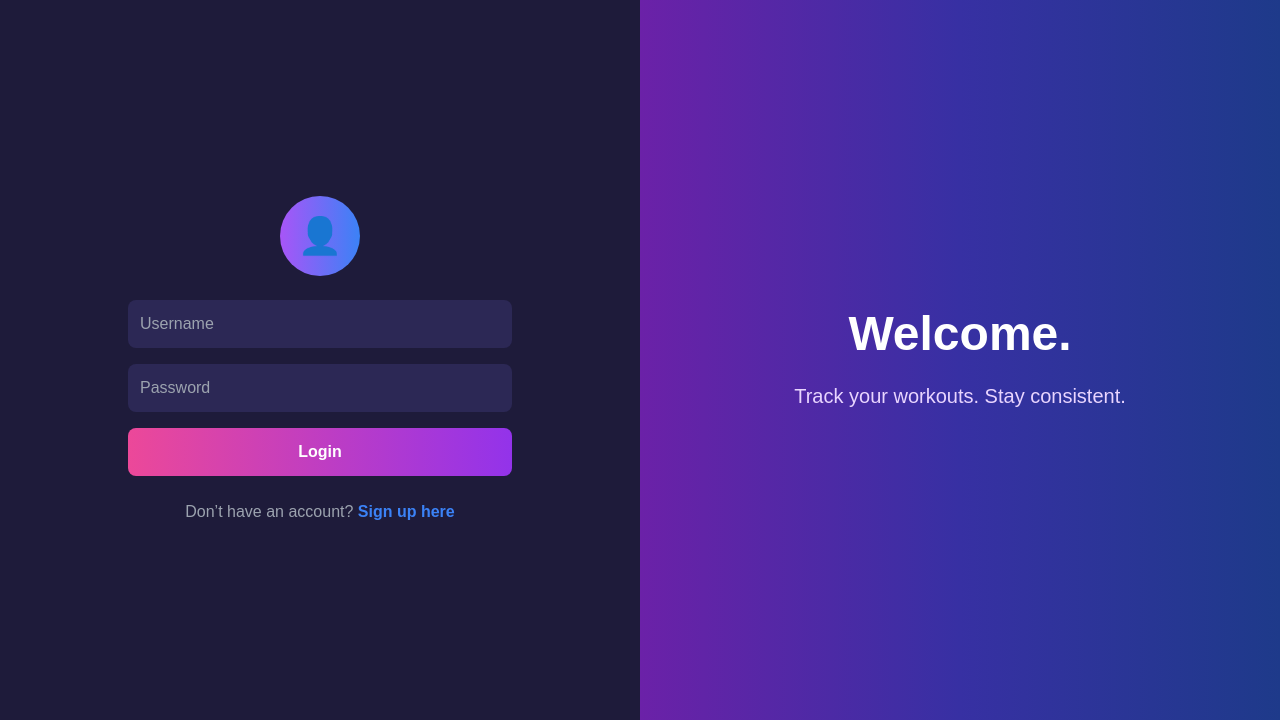
shows backend-down message on network error
Type "alice" into the field with placeholder "Username" at [320, 324], box [128,300,512,348]
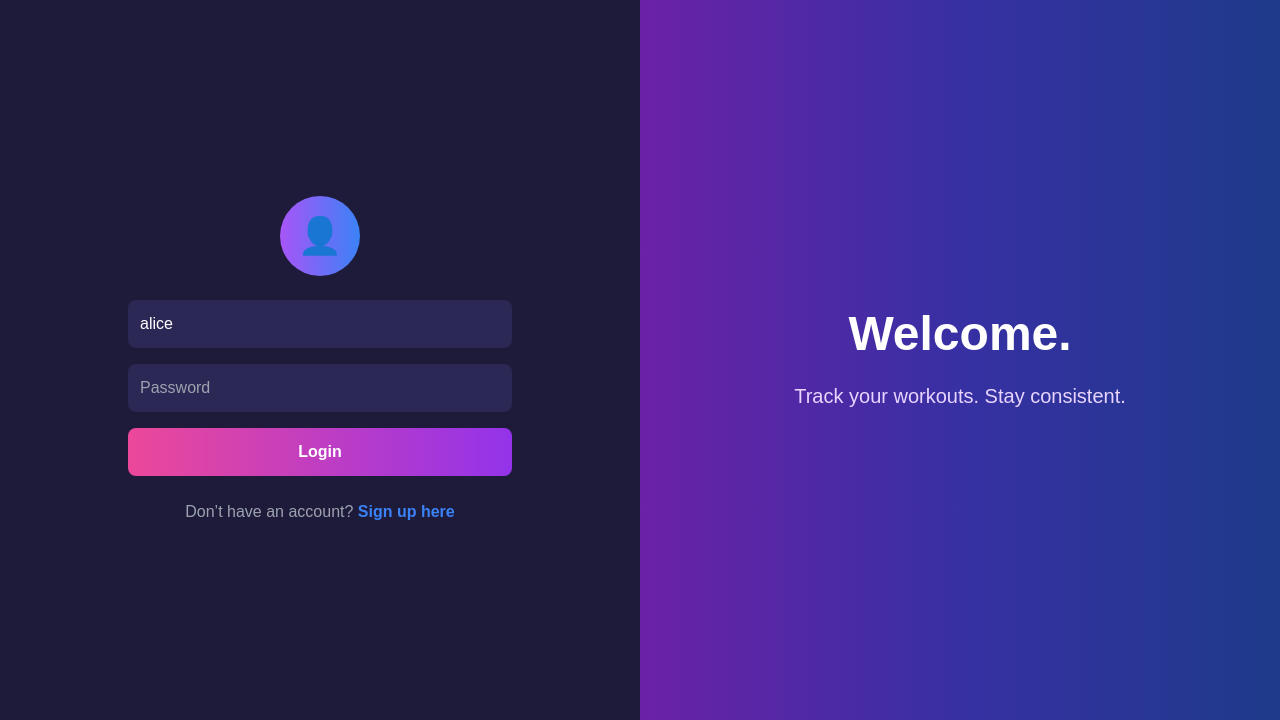
Type "secret123" into the password field with placeholder "Password" at [320, 388], box [128,364,512,412]
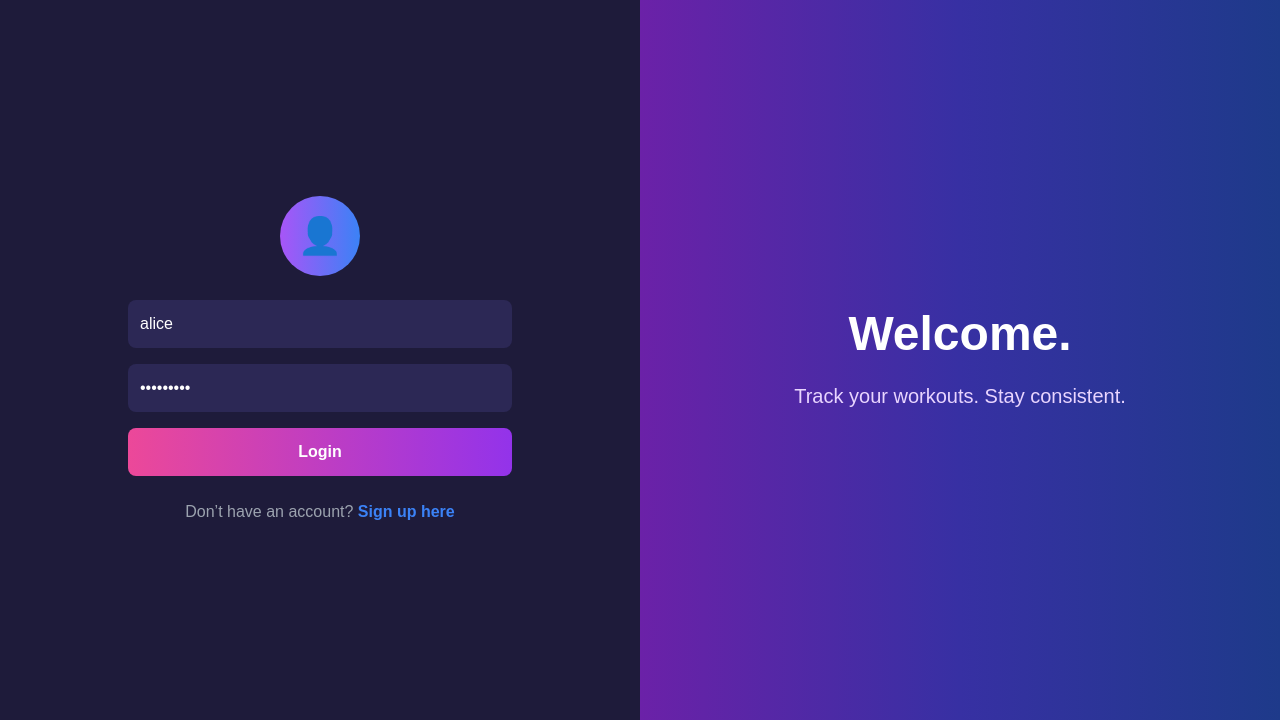
Click the button "Login" at [320, 452], box [128,428,512,476]
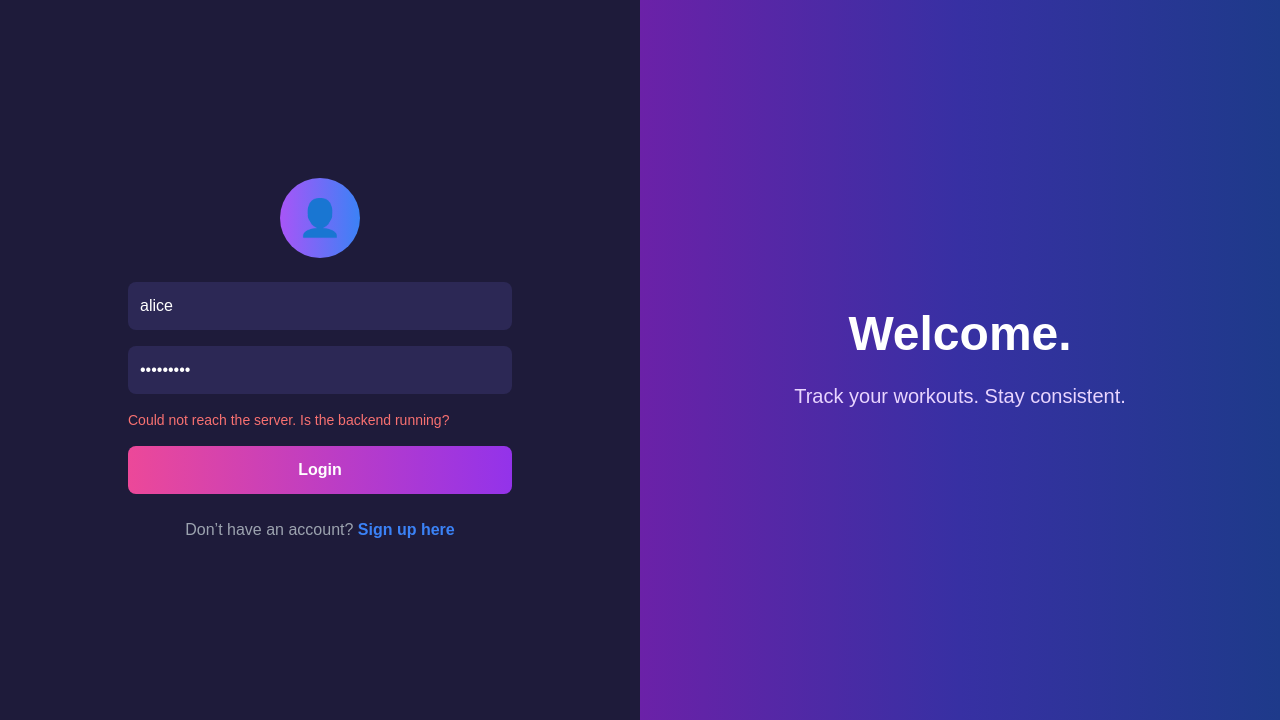
Check: the text "Could not reach the server. Is the backend running?" is shown, box [128,412,449,428]
